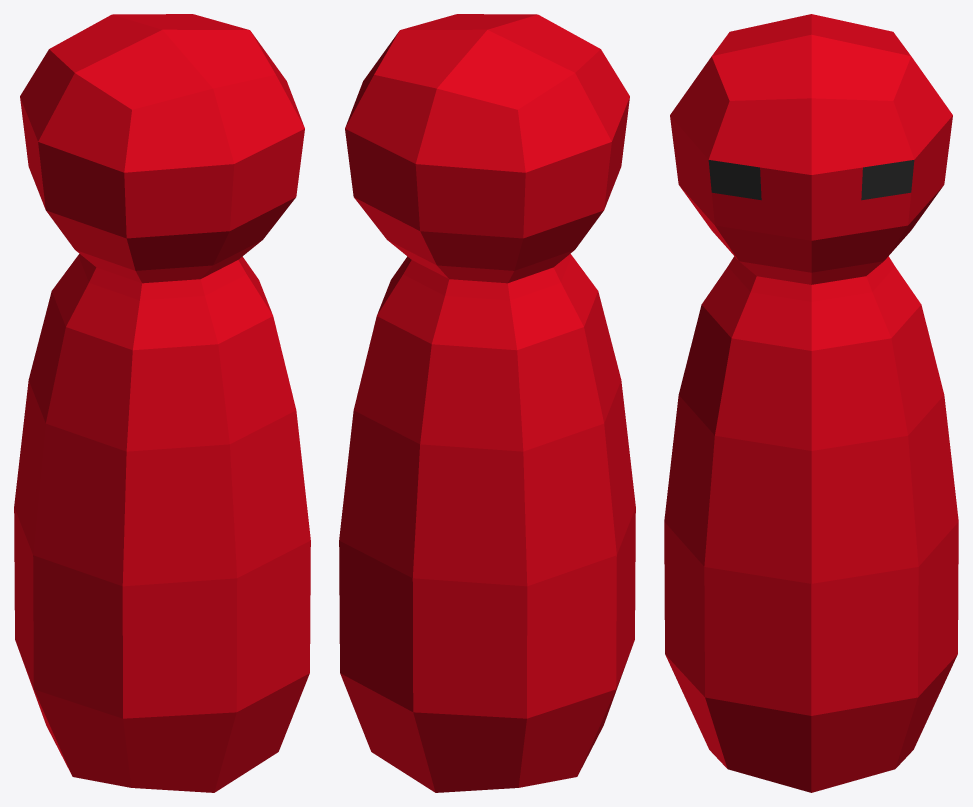
Rendered from Enemy.fbx.
The picture shows the model from 3 angles, left to right: view 1: azimuth 30°, elevation 25°; view 2: azimuth 150°, elevation 25°; view 3: azimuth 270°, elevation 25°; orthographic projection.
Visible parts, largest first — view 1: Cube; view 2: Cube; view 3: Cube.
Part boxes in pixels (x1,y1,x2,y2): Cube: [14, 14, 310, 792]; Cube: [339, 14, 635, 792]; Cube: [664, 14, 958, 792].
Size of the model in its own units: 103 by 289 by 103.
